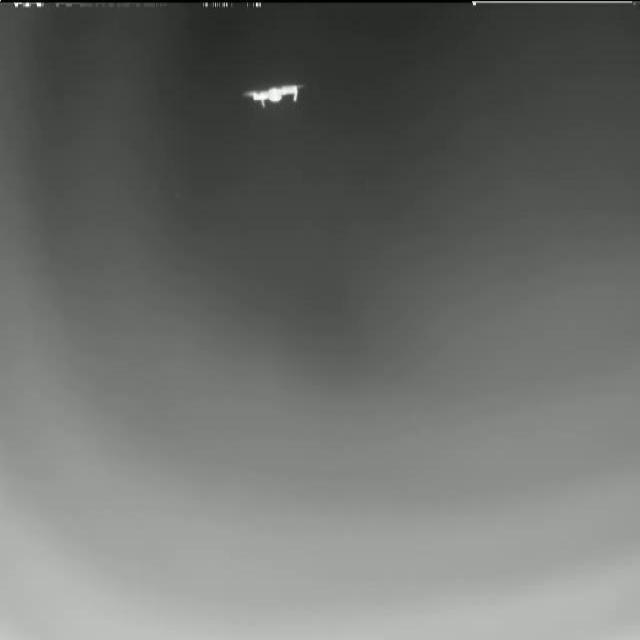DRONE: (238, 79, 309, 110)
